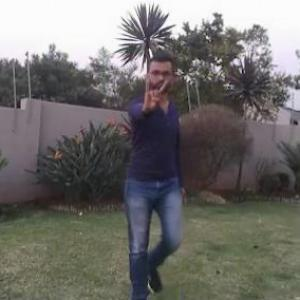takeoff-hand: (135, 72, 171, 116)
